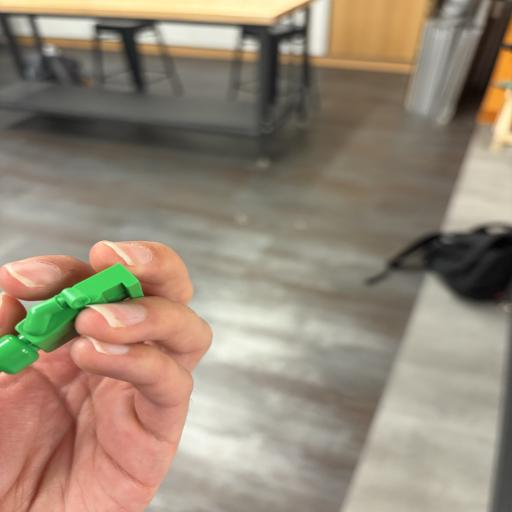Green-Lego: (0, 264, 144, 374)
